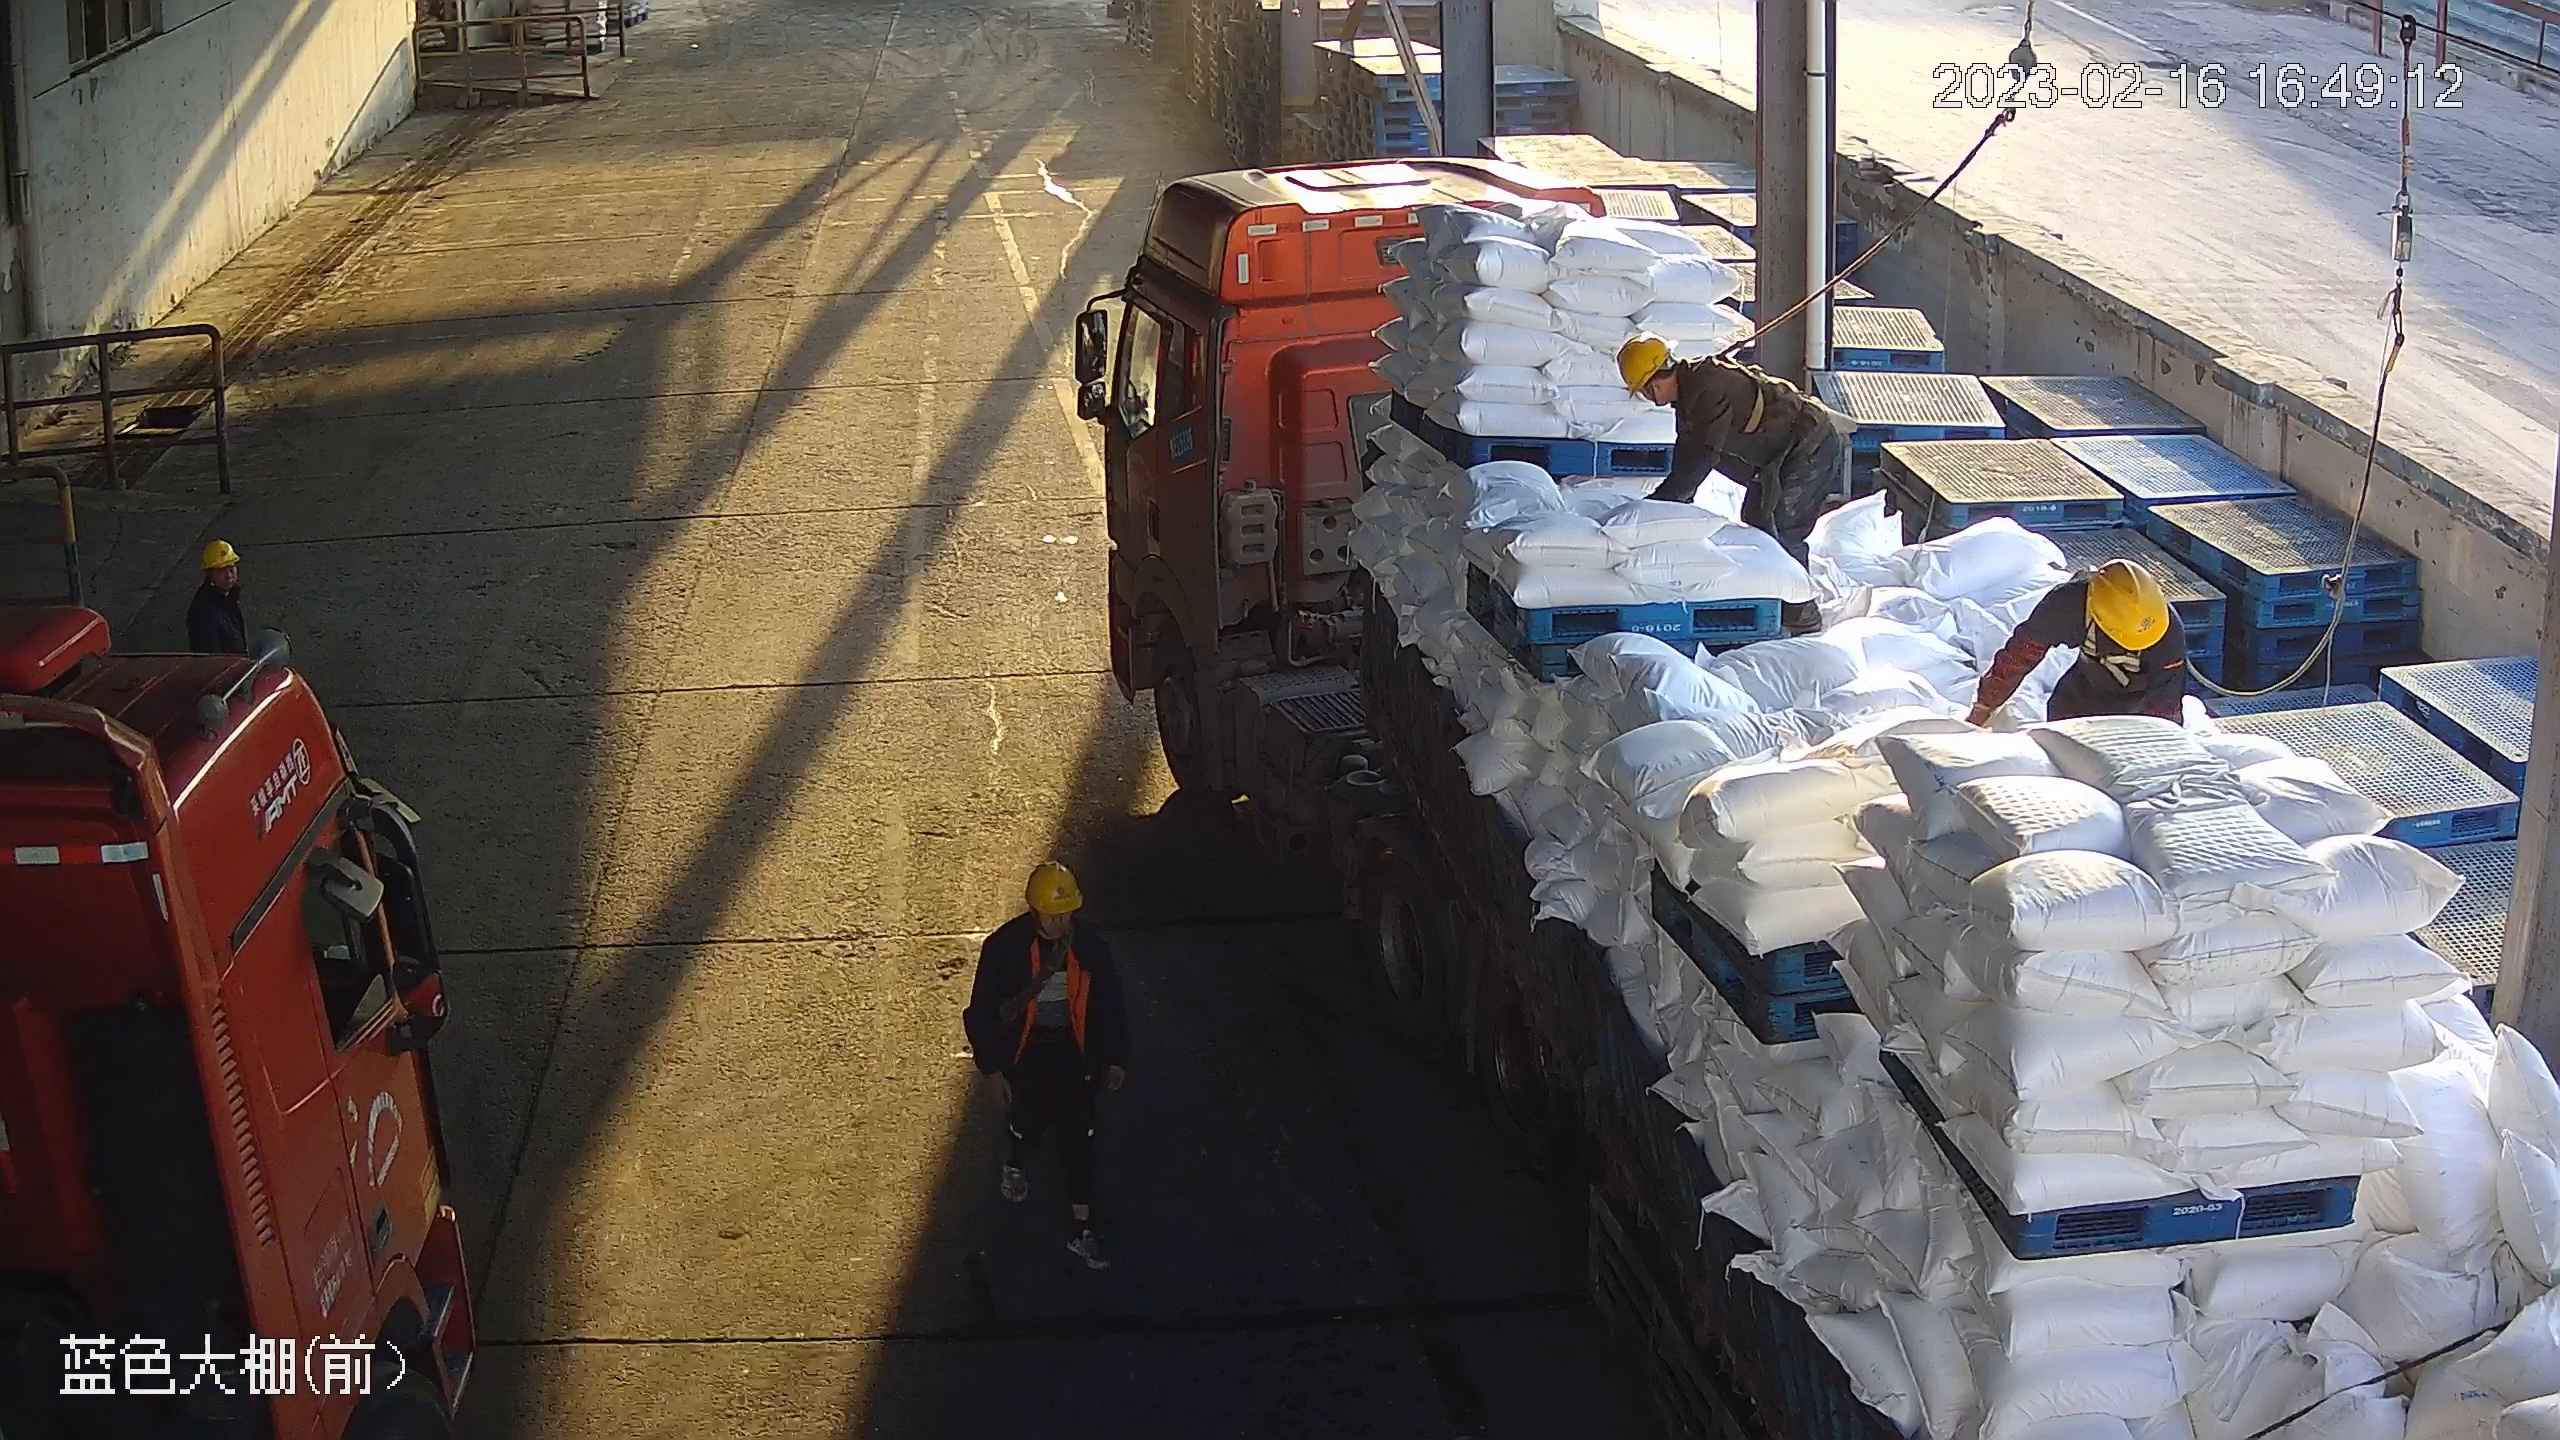belt: (1685, 342, 1767, 433), (2083, 586, 2141, 687)
head: (2026, 557, 2185, 668), (980, 862, 1115, 984), (1615, 332, 1734, 425), (187, 538, 242, 623)
helmet: (2085, 556, 2169, 650), (1615, 332, 1671, 400), (1024, 862, 1083, 915), (201, 538, 240, 569)
people: (962, 860, 1131, 1274), (1615, 332, 1841, 636)
truck: (1074, 157, 2560, 1440), (1, 604, 478, 1440)
